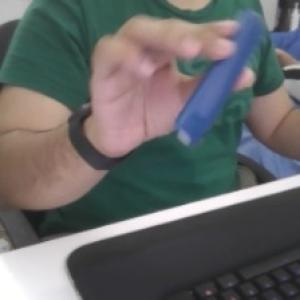Diamond-E-Ciggirate: (172, 4, 268, 151)
